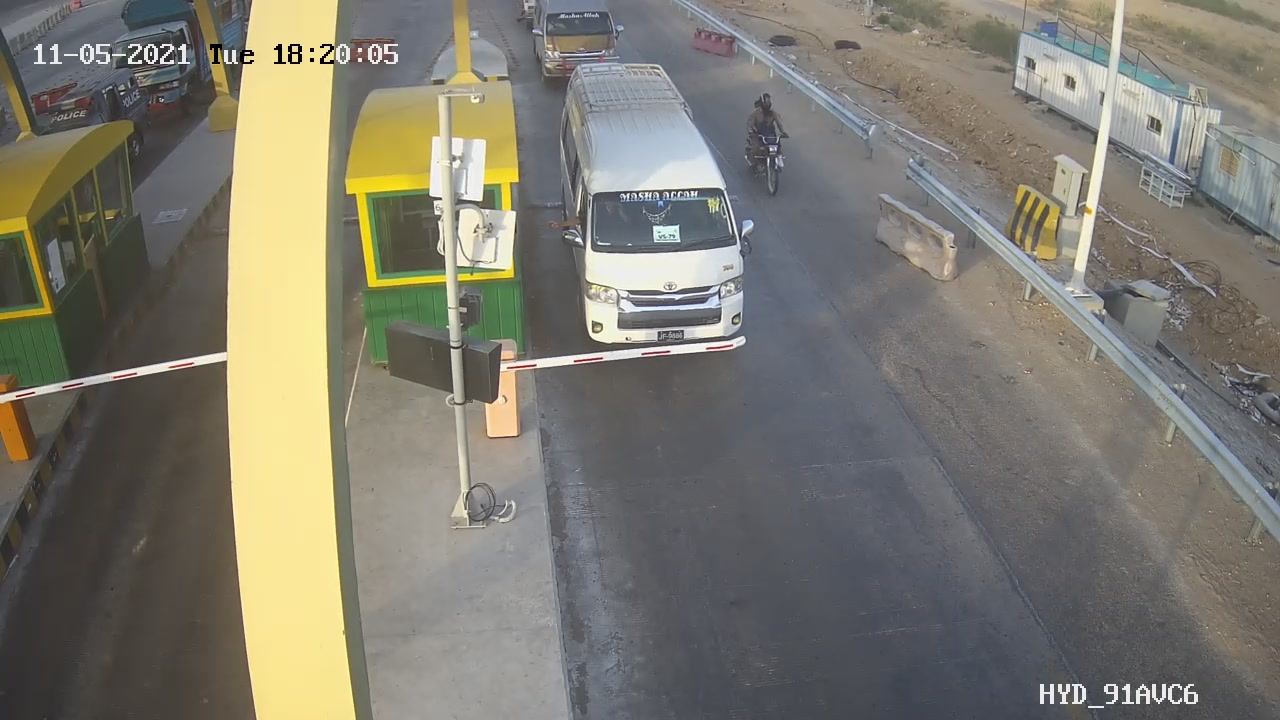F2: (552, 57, 762, 352)
